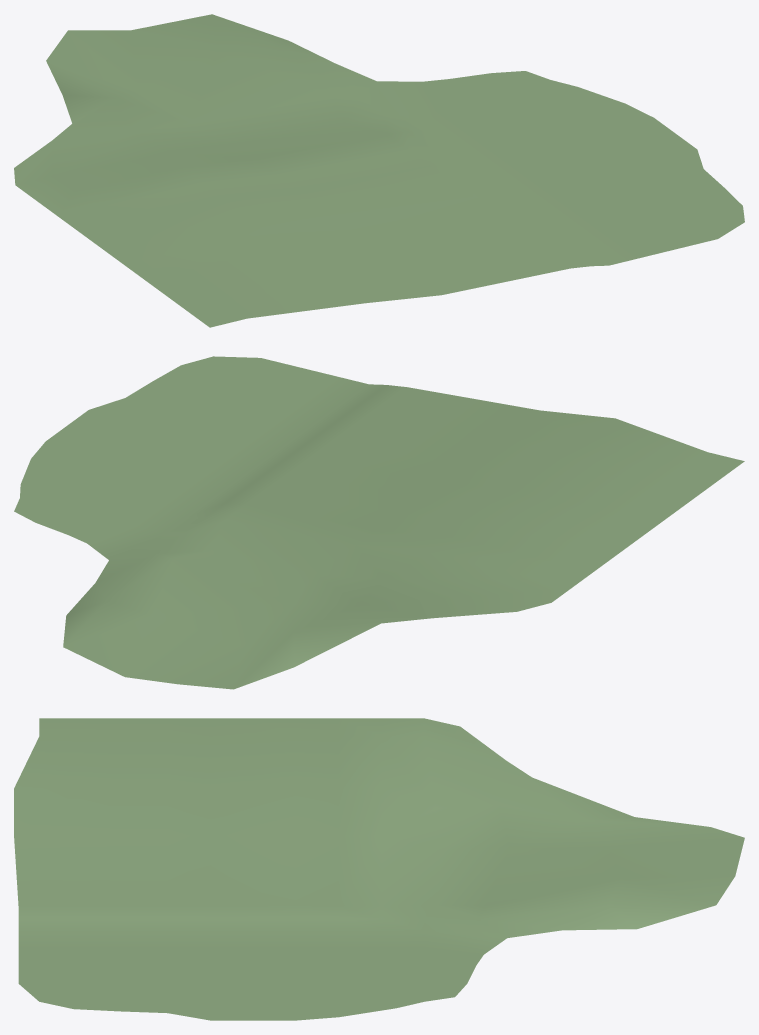
The model's file is ground.fbx.
3 renders of one model, top to bottom at view 1: azimuth 30°, elevation 25°; view 2: azimuth 150°, elevation 25°; view 3: azimuth 270°, elevation 25°, orthographic.
Visible parts, largest first — view 1: ground; view 2: ground; view 3: ground.
Boxes of the visible parts, bbox=[...] form: ground: bbox=[14, 14, 744, 327]; ground: bbox=[14, 356, 744, 689]; ground: bbox=[14, 718, 744, 1020].
Size of the model in its own units: 128 by 5.83 by 142.
